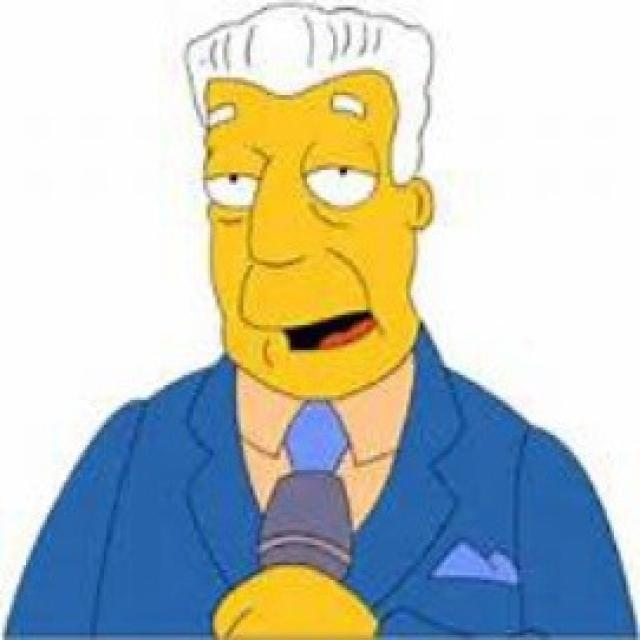Kent Brockman: (177, 0, 451, 405)
